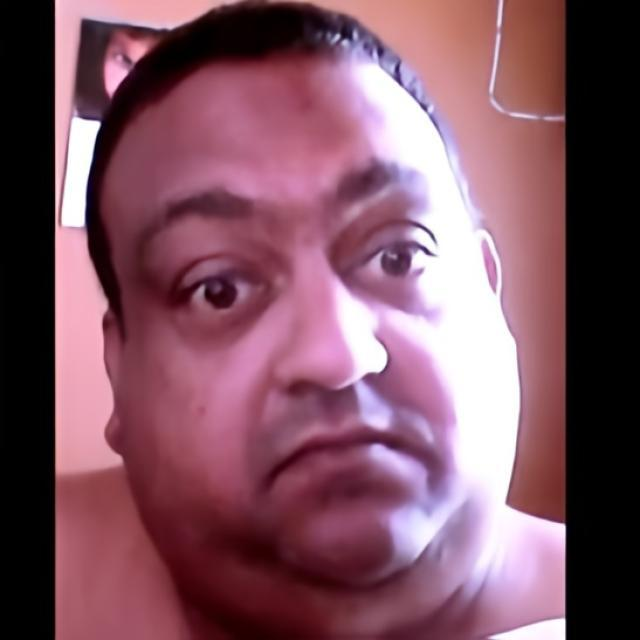Fear: (94, 44, 520, 594)
